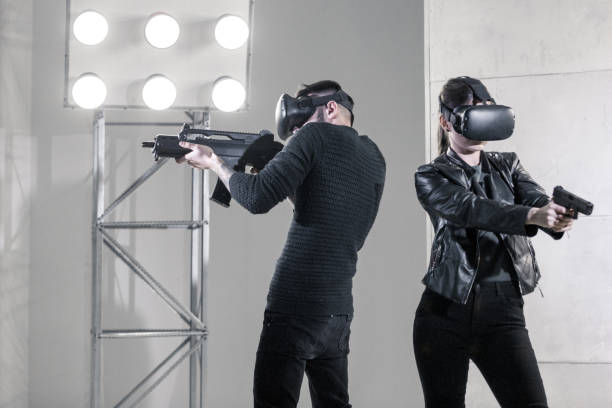gun: (142, 124, 274, 212), (551, 184, 594, 220)
